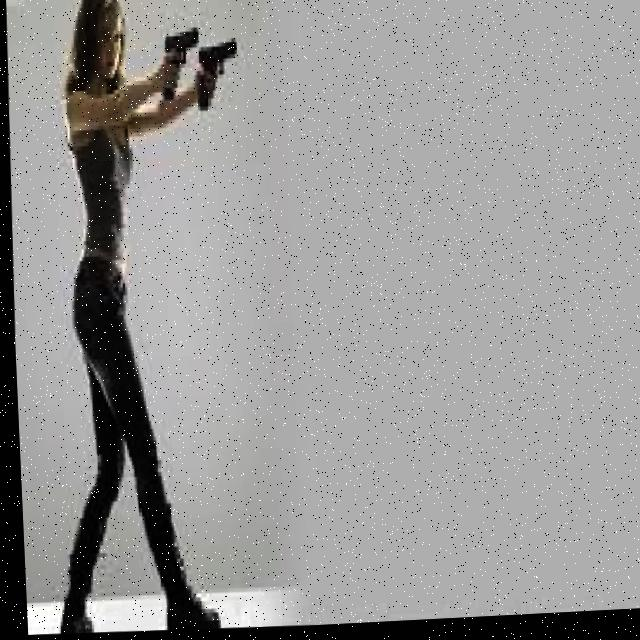pistol: (196, 38, 238, 81), (162, 27, 200, 69)
